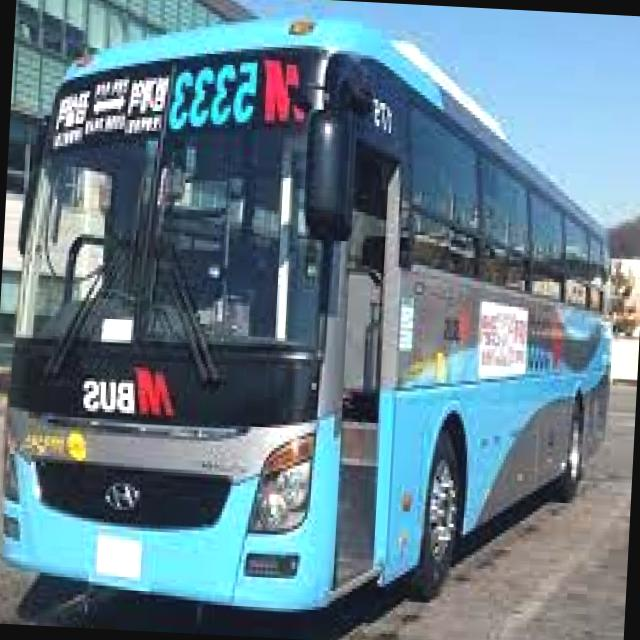bus-number: (167, 54, 260, 138)
